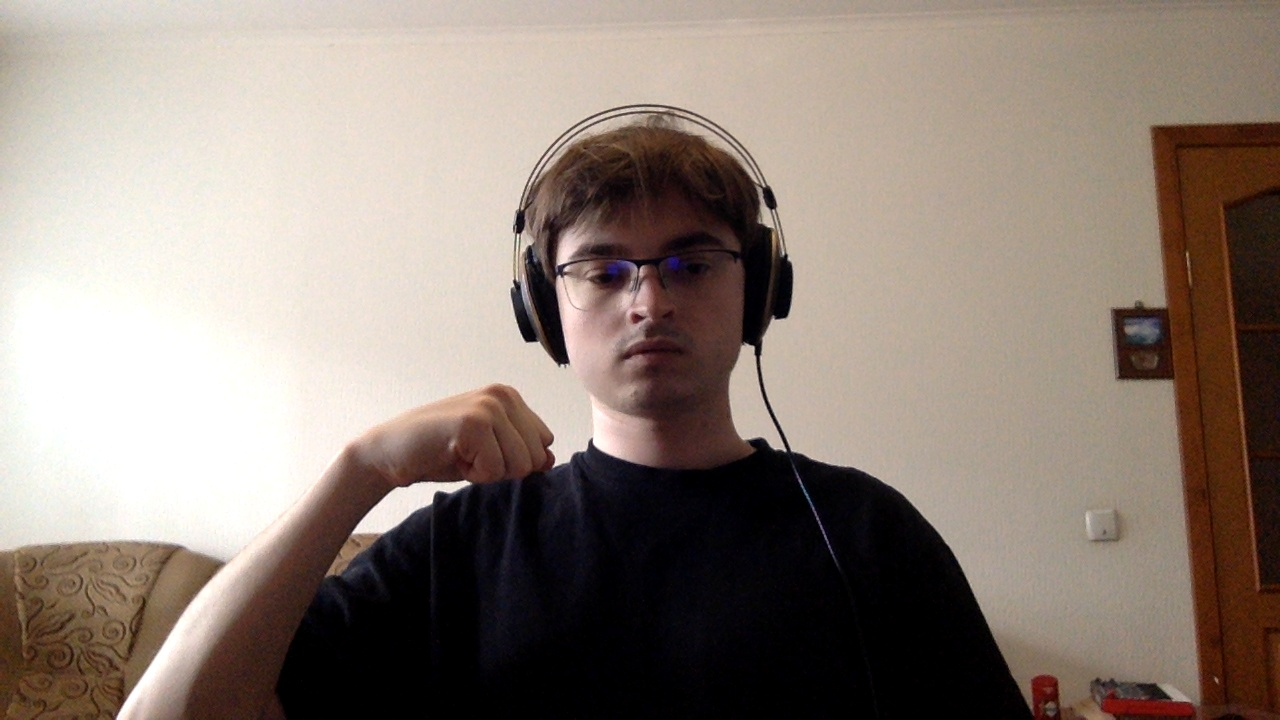yes: (326, 337, 584, 525)
